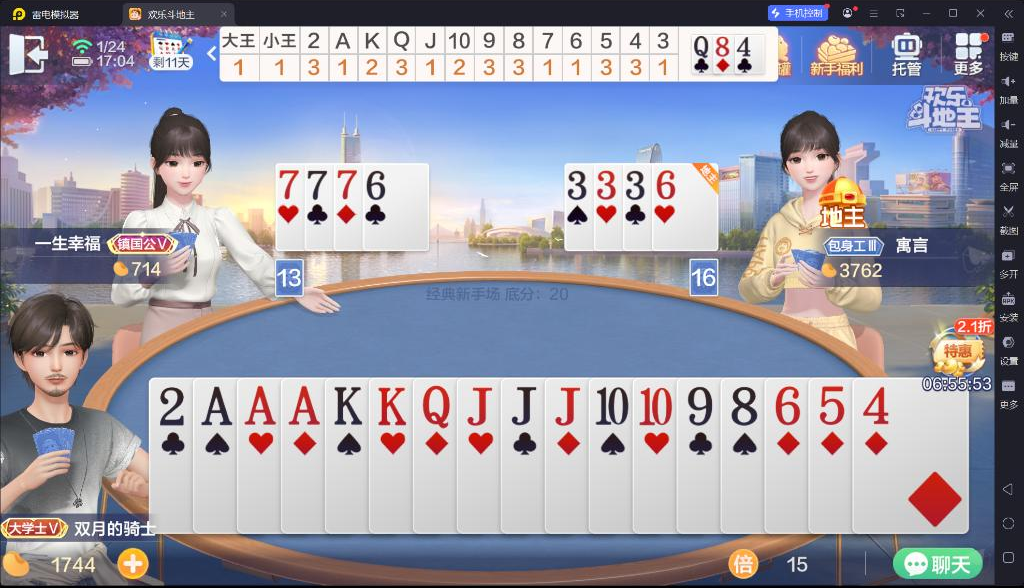A: (199, 383, 235, 428), (242, 381, 277, 427), (285, 381, 320, 427)
J: (550, 383, 584, 428), (506, 383, 540, 427), (462, 384, 494, 428)
K: (374, 383, 409, 427), (330, 383, 364, 427)
Q: (419, 382, 452, 429), (693, 35, 711, 59)
eight: (726, 382, 760, 428), (715, 36, 730, 57)
five: (815, 383, 847, 428)
four: (860, 384, 892, 427), (735, 36, 753, 58)
nine: (684, 384, 714, 427)
seven: (305, 166, 328, 201), (335, 166, 358, 200), (278, 166, 300, 200)
six: (771, 382, 803, 428), (655, 168, 678, 202), (365, 168, 388, 200)
ten: (593, 383, 630, 428), (636, 384, 673, 428)
three: (566, 169, 589, 203), (595, 168, 618, 202), (624, 168, 646, 202)
two: (156, 383, 188, 429)
